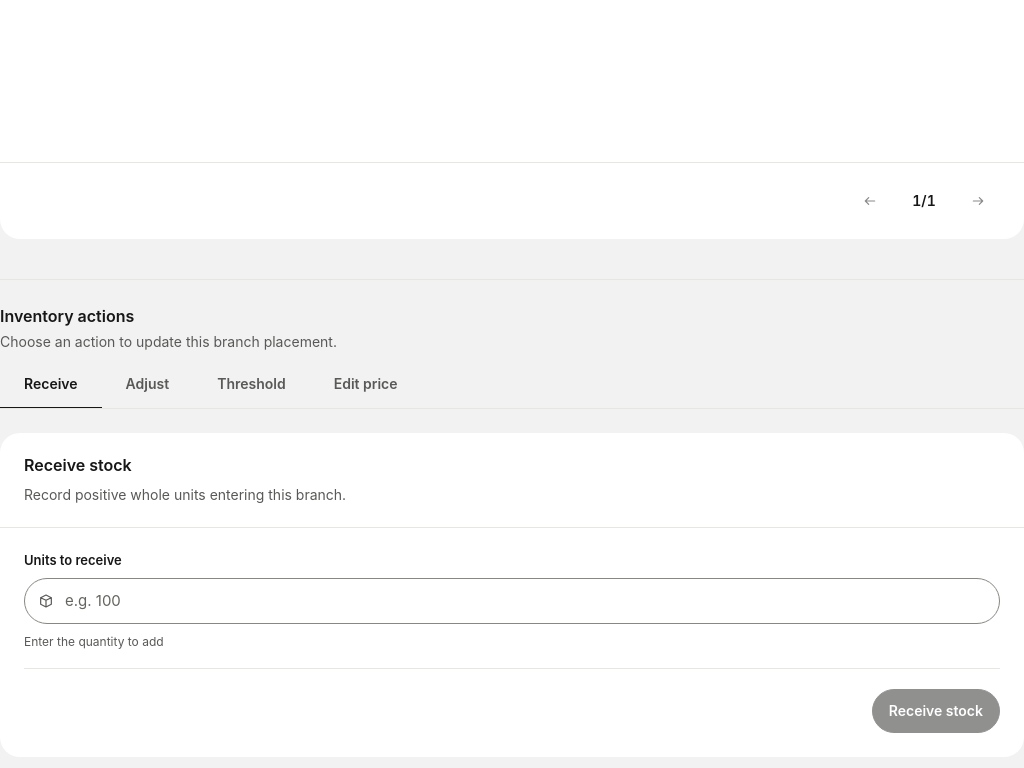
Test: InventoryDetail workflows › reveals one selected inventory action form at a time
(page scrolled)
Check: the tab "Receive" is shown, box [0,360,102,408]
Check: the tab "Threshold" is shown, box [193,360,310,408]
Click the tab "Adjust" at (147, 384), box [102,360,193,408]
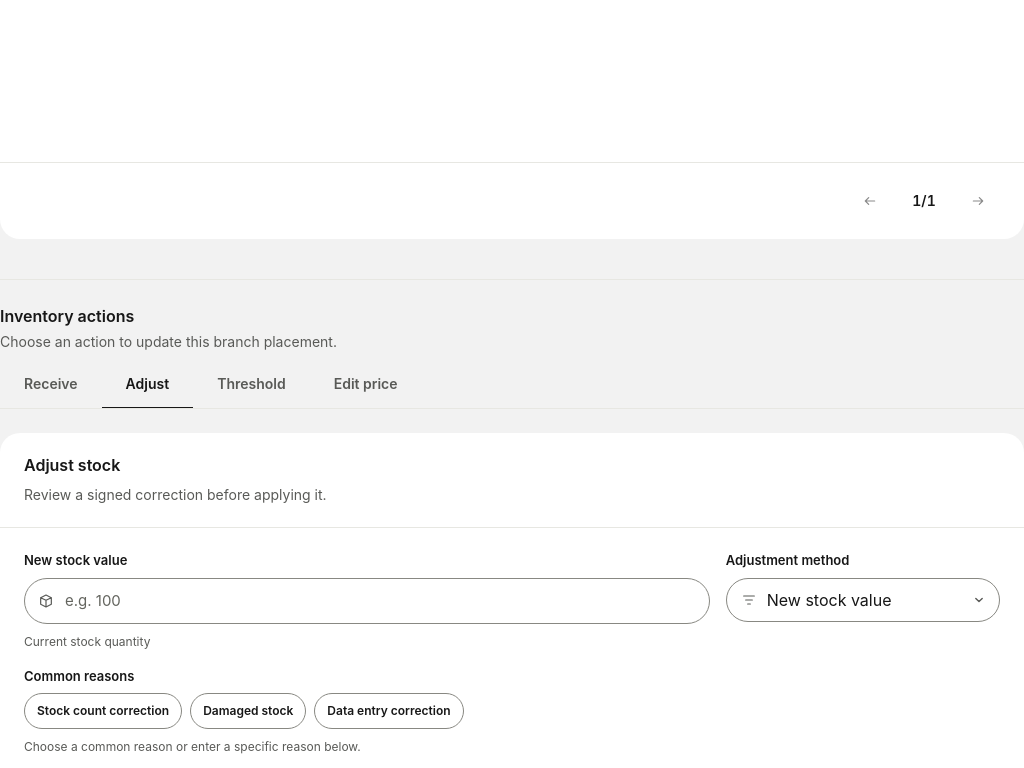
Check: the dropdown named "Adjustment method" is shown, box [726,578,1000,622]
Check: the label "Units to receive" is gone
Click the tab "Edit price" at (366, 384), box [310,360,422,408]
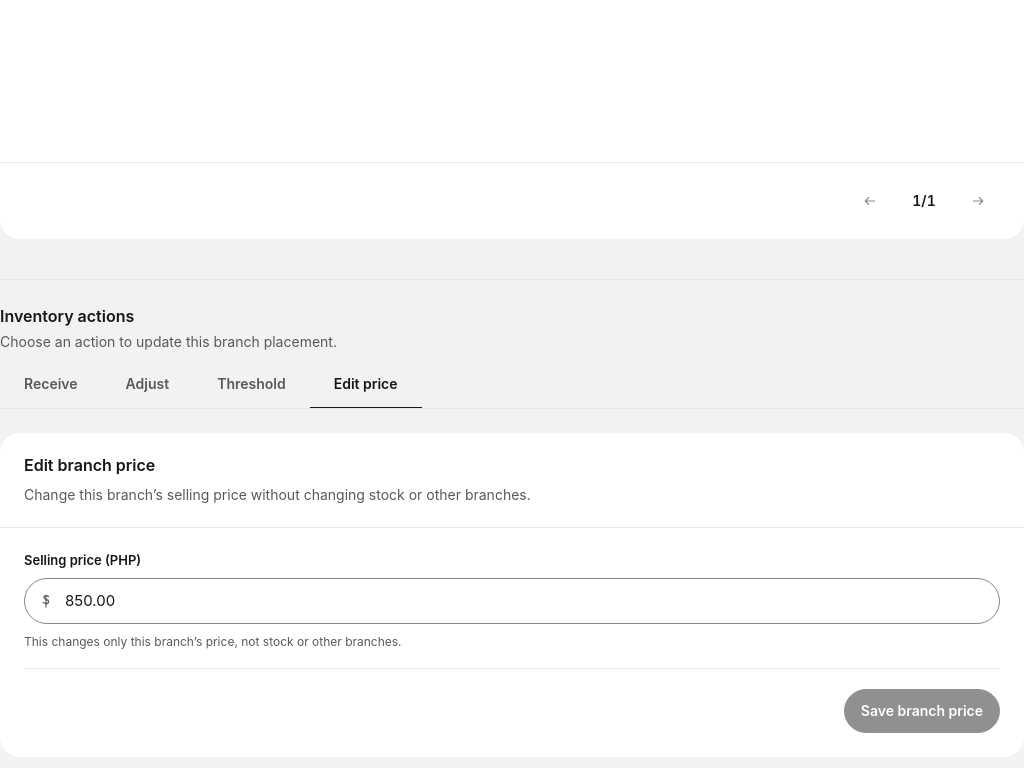
Check: the field labelled "Selling price (PHP)" is shown, box [24,578,1000,624]
Check: the label "Adjustment method" is gone
